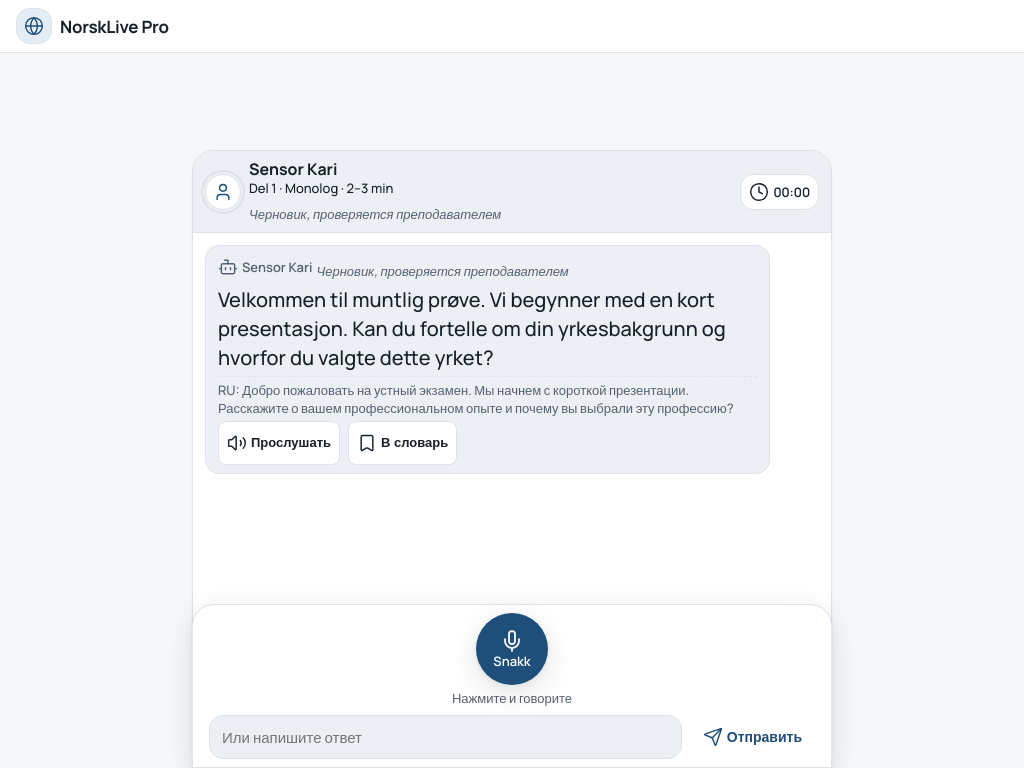
Test: #45 coach unavailable card and retry › 503 shows the error card, keeps the message, and «Повторить» re-sends the same text once
Type "Jeg bor i Bergen." into the field with id "userSpeechInput" at (445, 737), box left=209, top=715, right=682, bottom=759
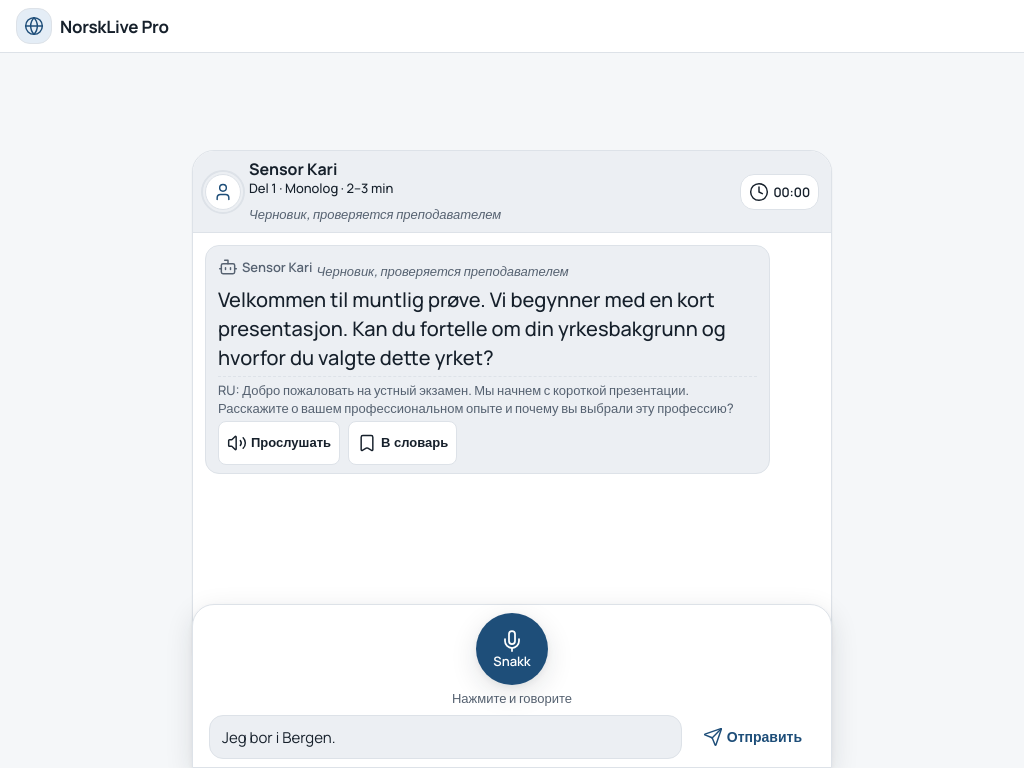
Click the button with id "sendSpeechBtn" at (752, 737), box left=690, top=715, right=815, bottom=759
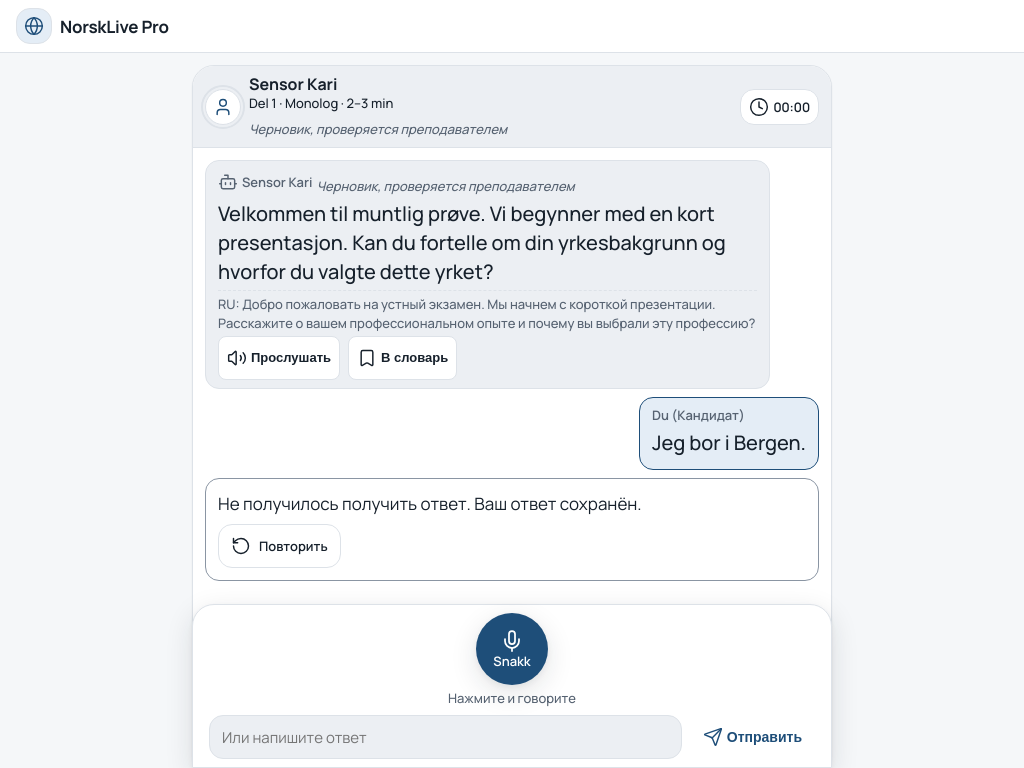
Expected: the message with test id "coachErrorCard" shows "Не получилось получить ответ. Ваш ответ сохранён.", left=218, top=492, right=642, bottom=515
Expected: the number of elements with class "msg-user" is 1, left=639, top=397, right=819, bottom=470
Expected: the number of elements with class "msg-ai" is 1, left=205, top=160, right=770, bottom=389
Click the button "Повторить" at (279, 546), box left=218, top=524, right=341, bottom=568
(page scrolled)
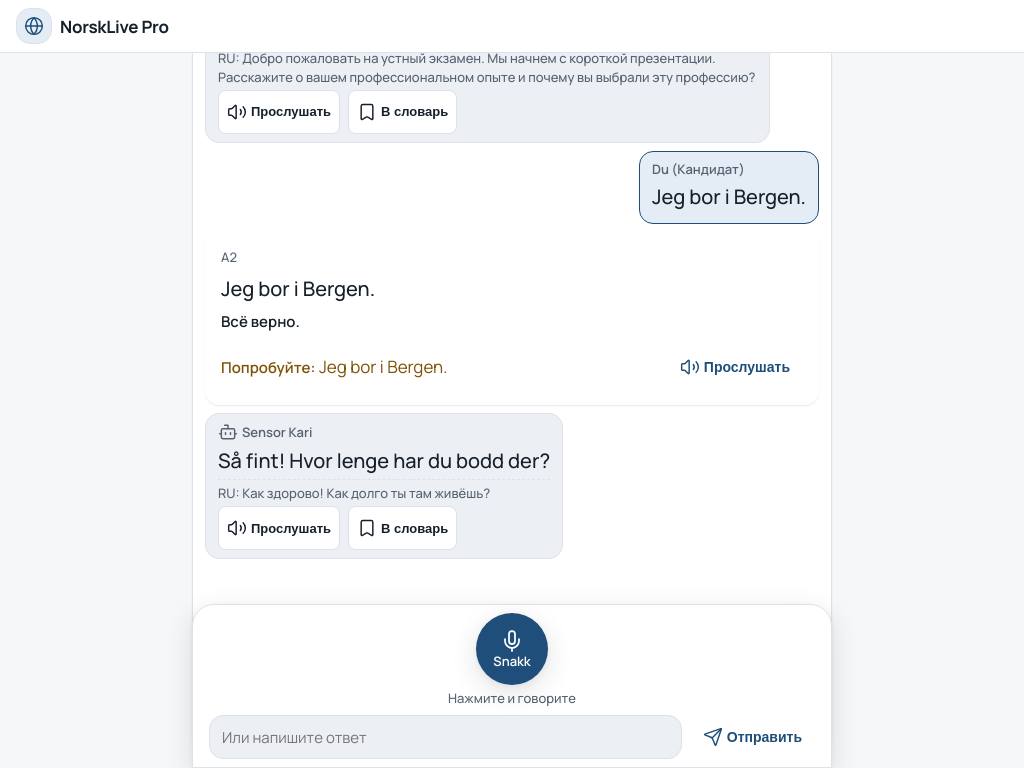
Expected: the text "Jeg bor i Bergen." below "Du (Кандидат)" is shown, left=652, top=183, right=806, bottom=210
Expected: the message with test id "coachErrorCard" is gone
Expected: the number of elements with class "msg-user" is 1, left=639, top=151, right=819, bottom=224
